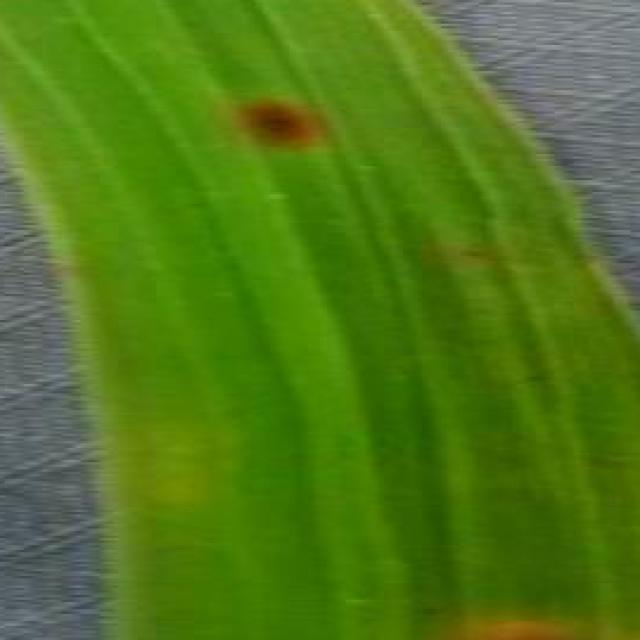Brown_Spot: (228, 80, 348, 158), (458, 232, 496, 266), (519, 361, 557, 386), (417, 597, 448, 621), (474, 206, 507, 225)
